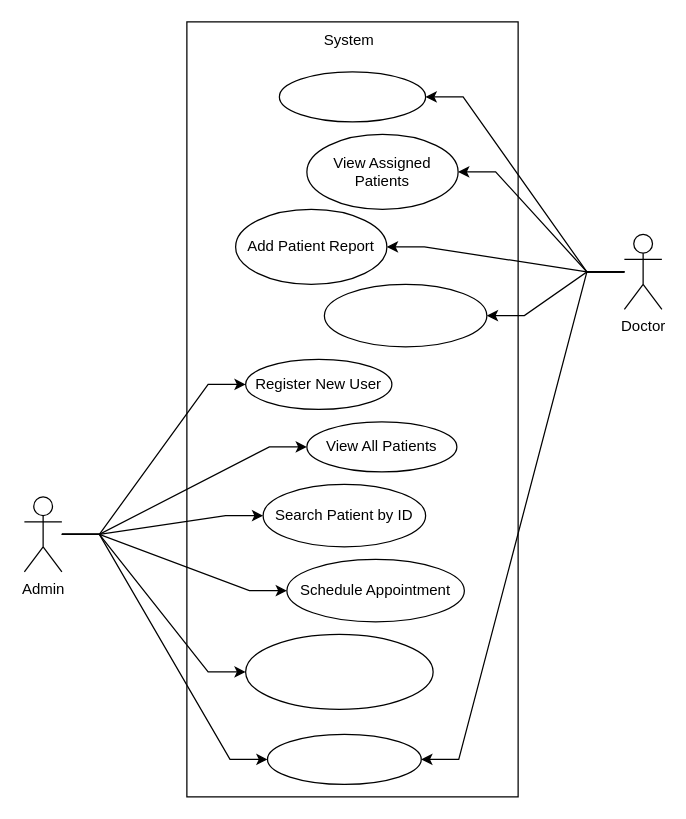
The diagram is 686 pixels wide and 819 high, and some of its shapes have lost their labels. The shapes that lost their labels are listed below. From the top down, each one's centre as x and y in pixels, then its label:
At point (352, 96): "Login".
At point (405, 315): "Search Patient History".
At point (338, 671): "View All Appointments".
At point (343, 758): "Logout".
